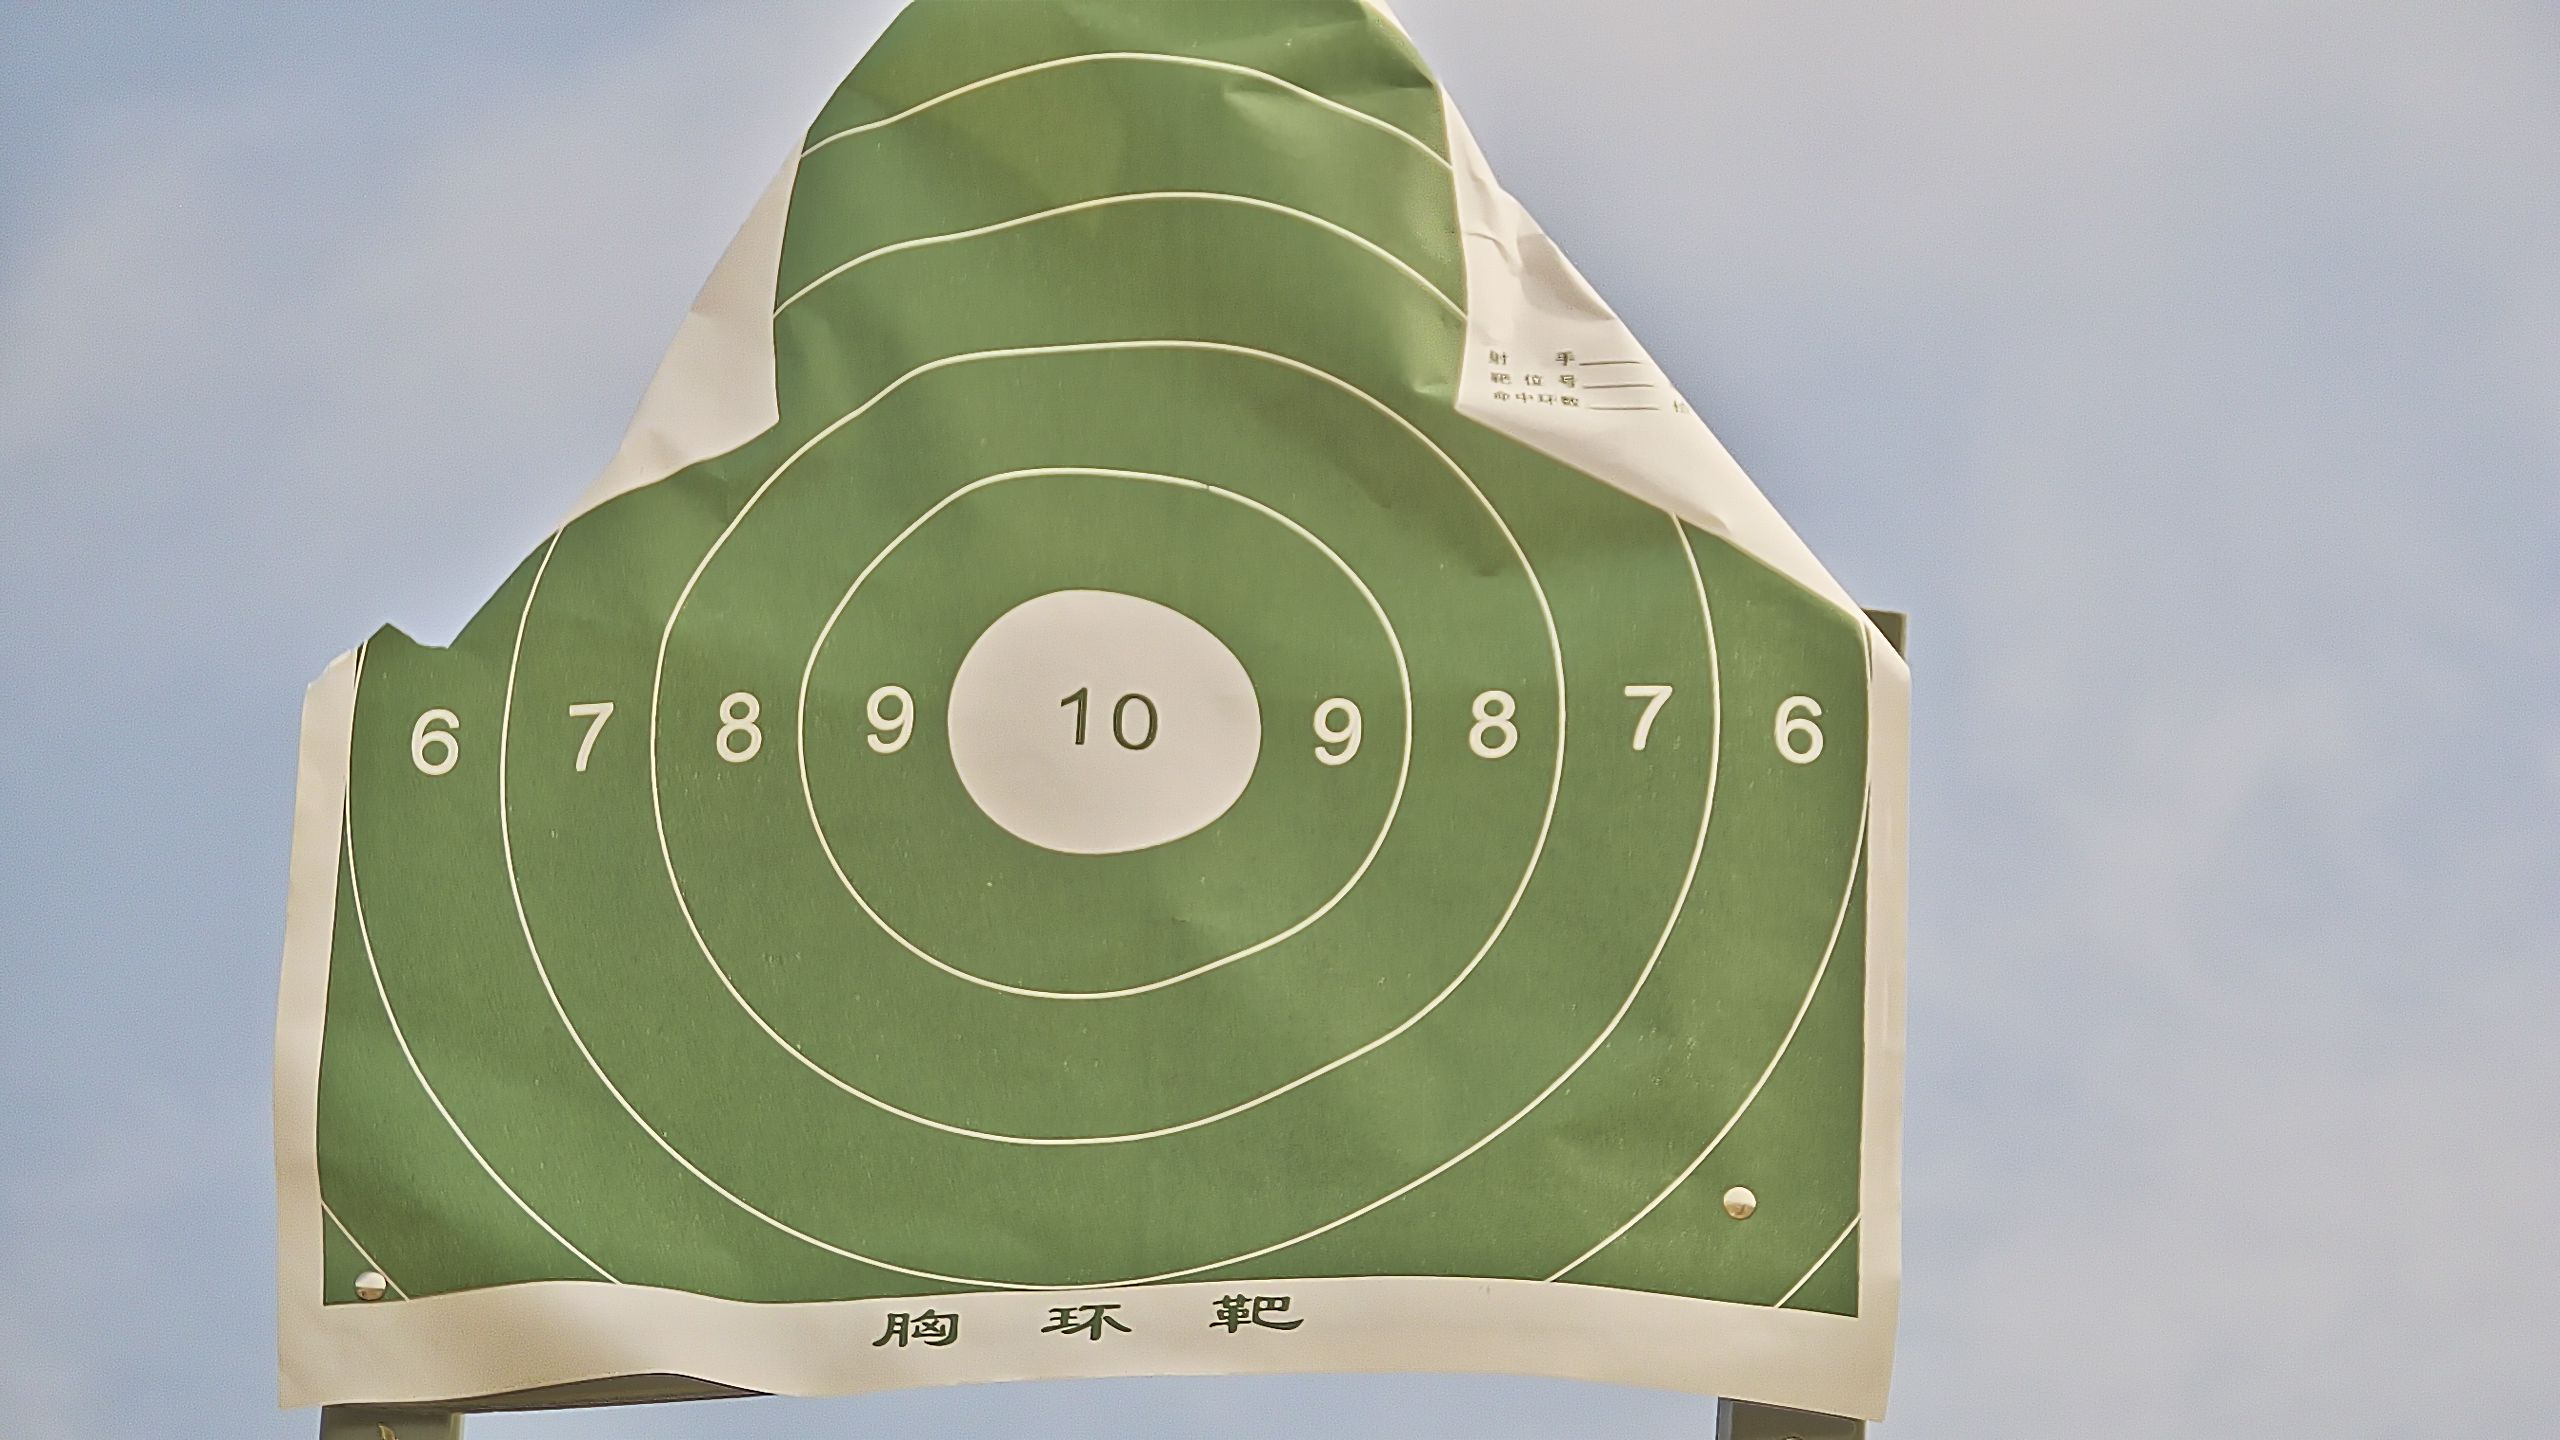kernel: (1095, 723, 1104, 726)
target: (308, 11, 1865, 1322)
ten: (944, 585, 1266, 855)
